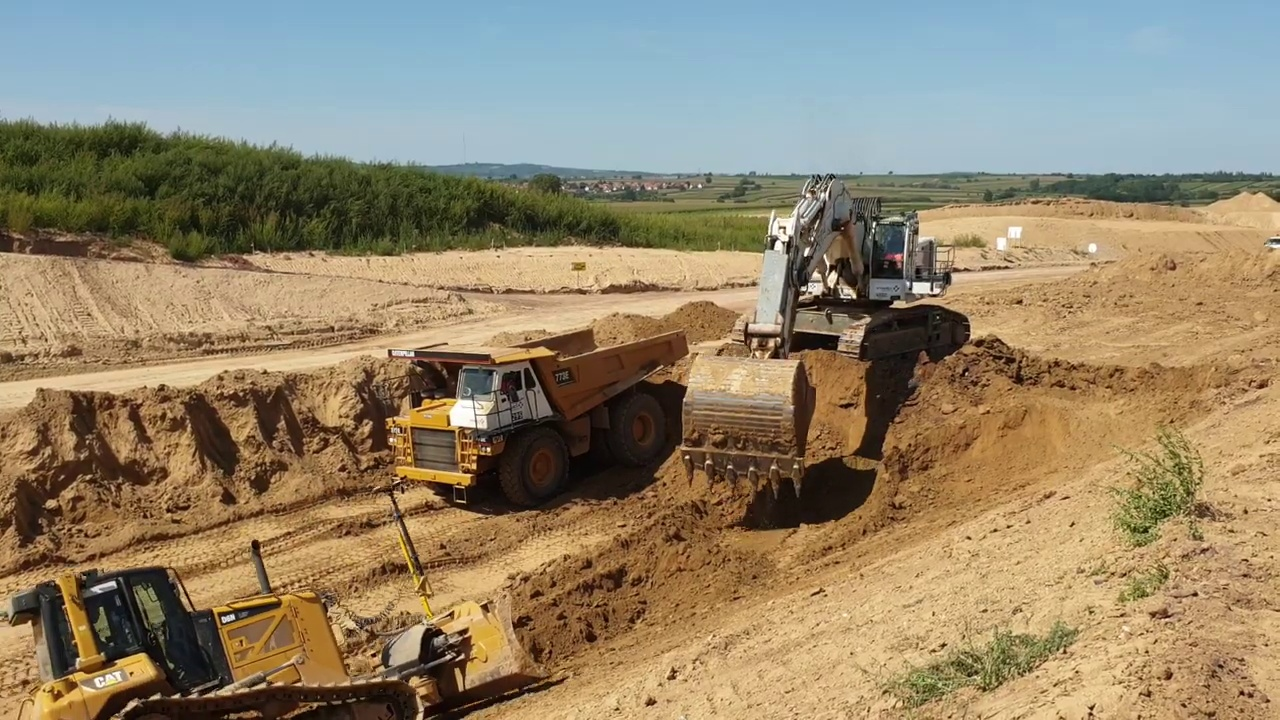bulldozer: (11, 482, 557, 720)
excavator: (683, 172, 971, 502)
truck: (388, 323, 691, 513)
